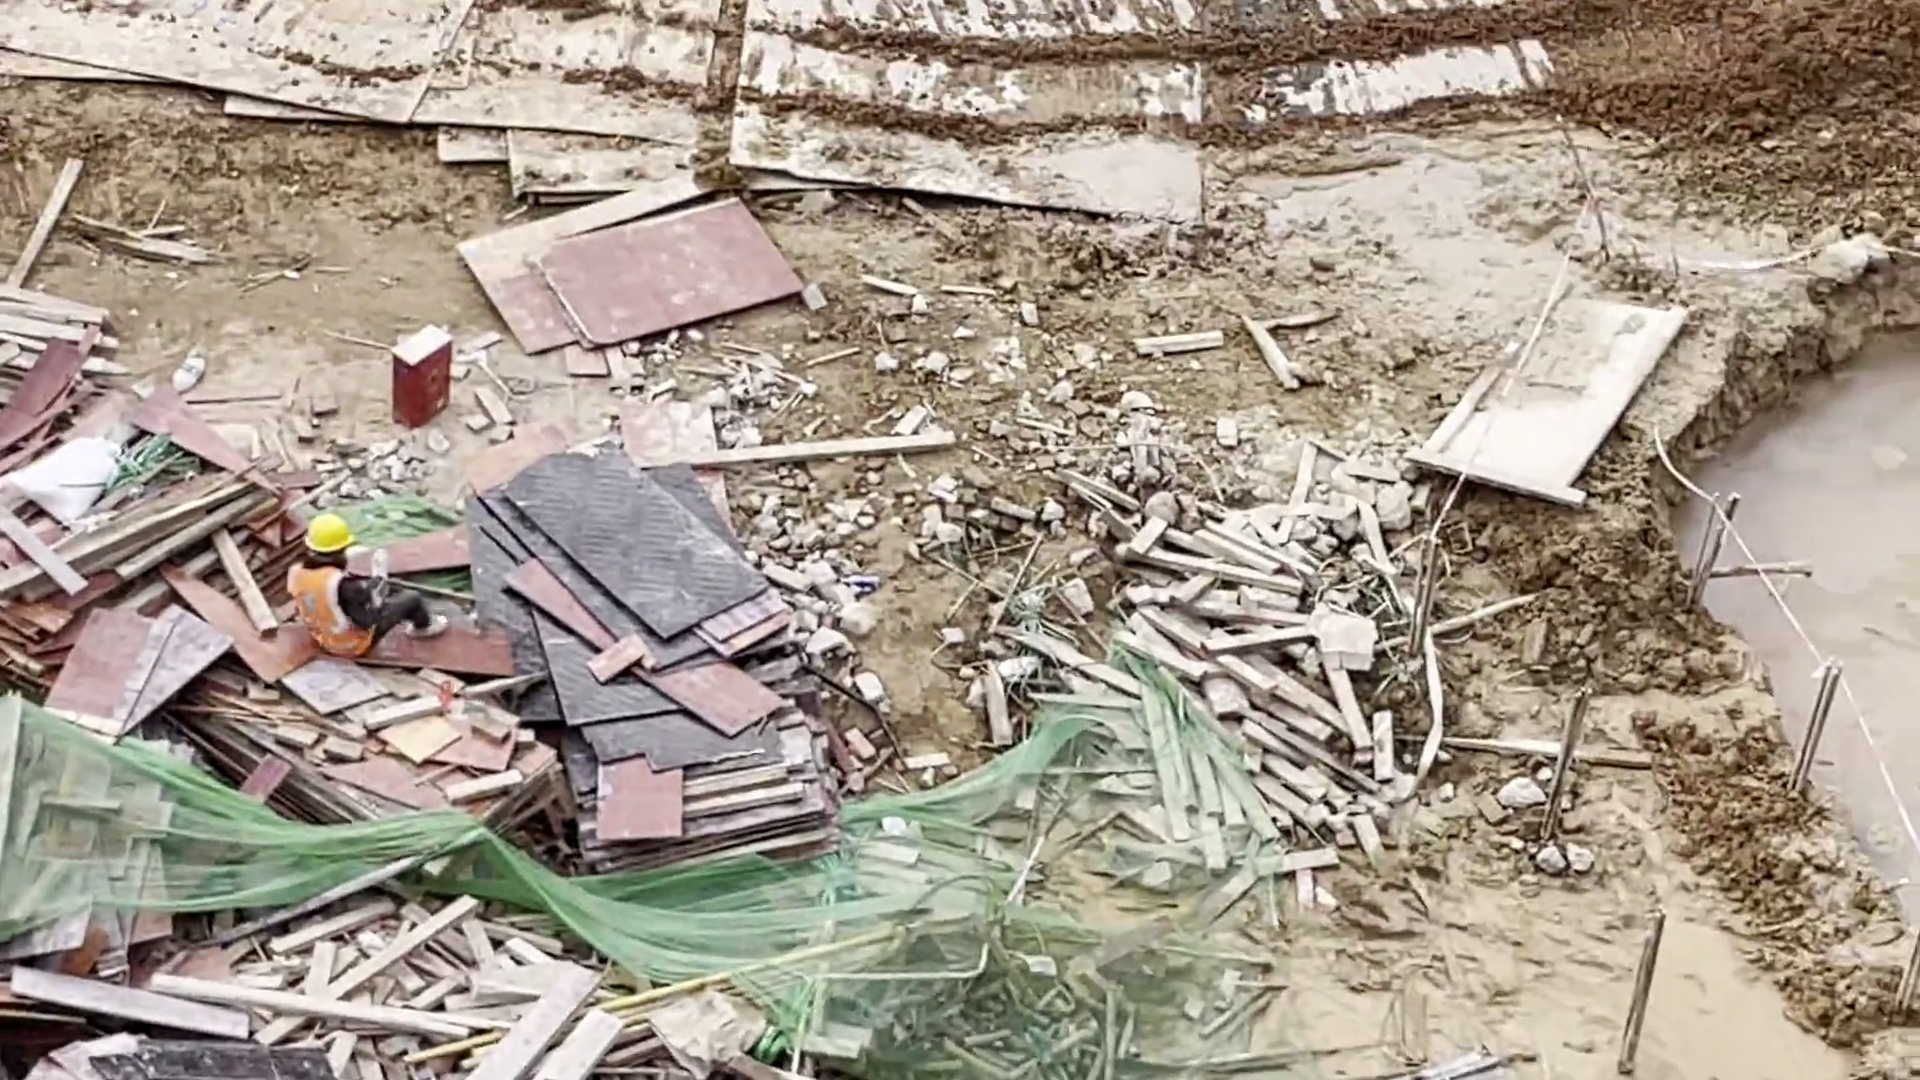helmet: (304, 512, 355, 552)
person: (280, 515, 442, 661)
vest: (283, 564, 374, 658)
